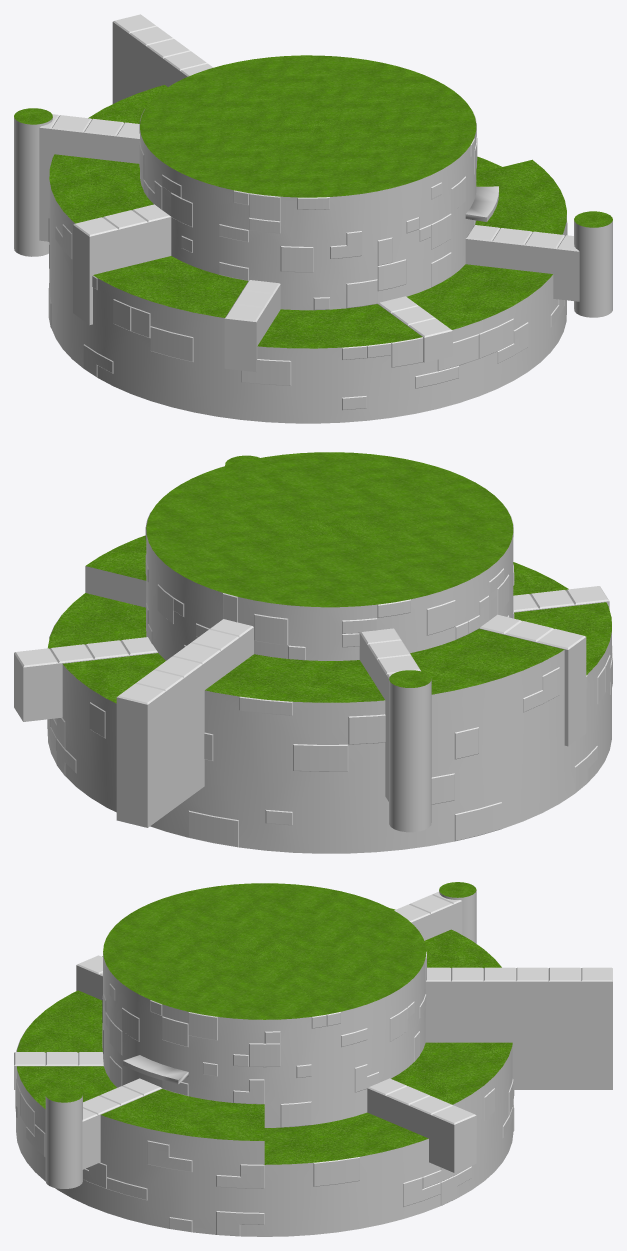
File: SM_world_1_02.fbx
3 views of the same model, one above another, from view 1: azimuth 30°, elevation 25°; view 2: azimuth 150°, elevation 25°; view 3: azimuth 270°, elevation 25° (orthographic). The views are drawn at different scales.
Visible parts, largest first — view 1: main_mesh; view 2: main_mesh; view 3: main_mesh.
Part boxes in pixels (box(x1,y1,x2,y2)): main_mesh: box(14, 14, 612, 423); main_mesh: box(14, 452, 612, 853); main_mesh: box(14, 882, 612, 1236).
Size of the model in its own units: 201 by 241 by 80.
